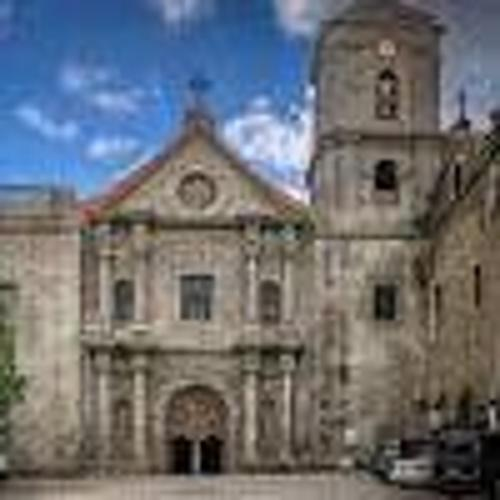San Agustin Church: (80, 1, 456, 482)
